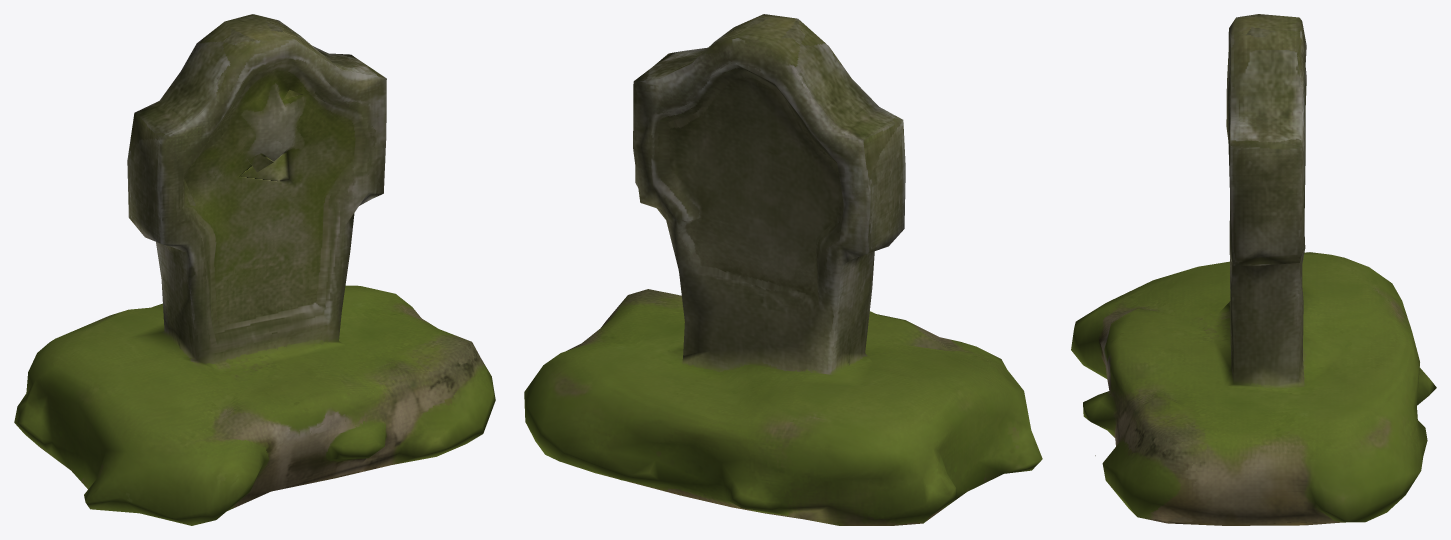
The model's file is gravestone.glb.
3 renders of one model, left to right at view 1: azimuth 30°, elevation 25°; view 2: azimuth 150°, elevation 25°; view 3: azimuth 270°, elevation 25°, orthographic. The views are drawn at different scales.
Visible parts, largest first — view 1: geometry_0; view 2: geometry_0; view 3: geometry_0.
Boxes of the visible parts, <box> form: geometry_0: <box>14,14,495,525</box>; geometry_0: <box>524,14,1042,525</box>; geometry_0: <box>1071,14,1436,525</box>.
Bounding box in the file's own units: 0.9665 × 0.9087 × 0.7259.
Materials: 1 (1 with a texture image).
